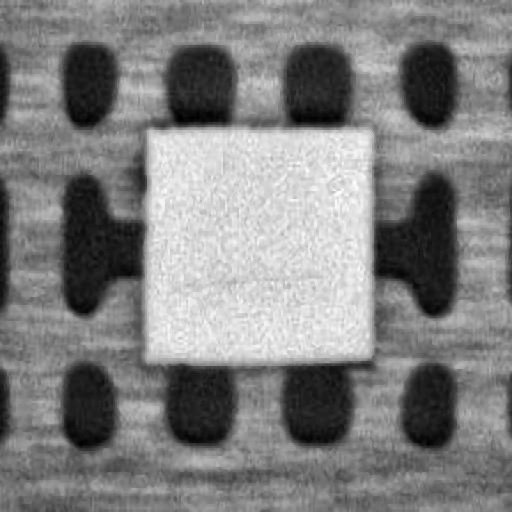DIE_CRACK: (276, 182, 477, 188)
